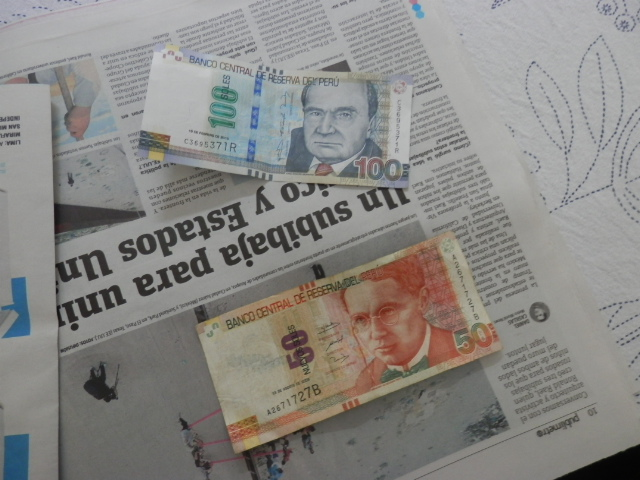B100: (137, 44, 417, 192)
B50: (190, 249, 507, 438)
